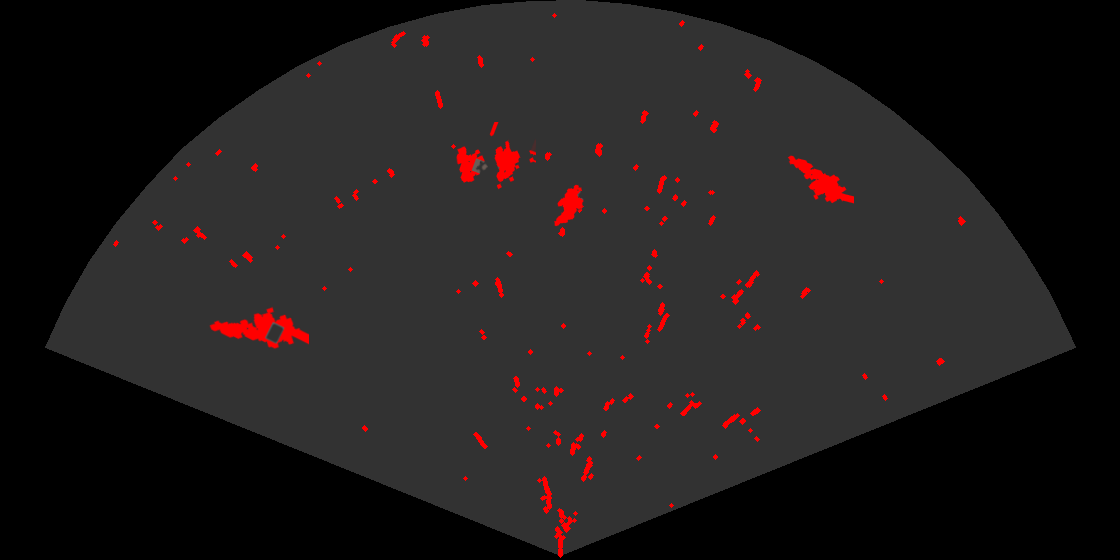AUV: (553, 183, 585, 228)
cage: (455, 122, 536, 191)
frogman: (208, 305, 309, 351), (786, 154, 854, 205)
